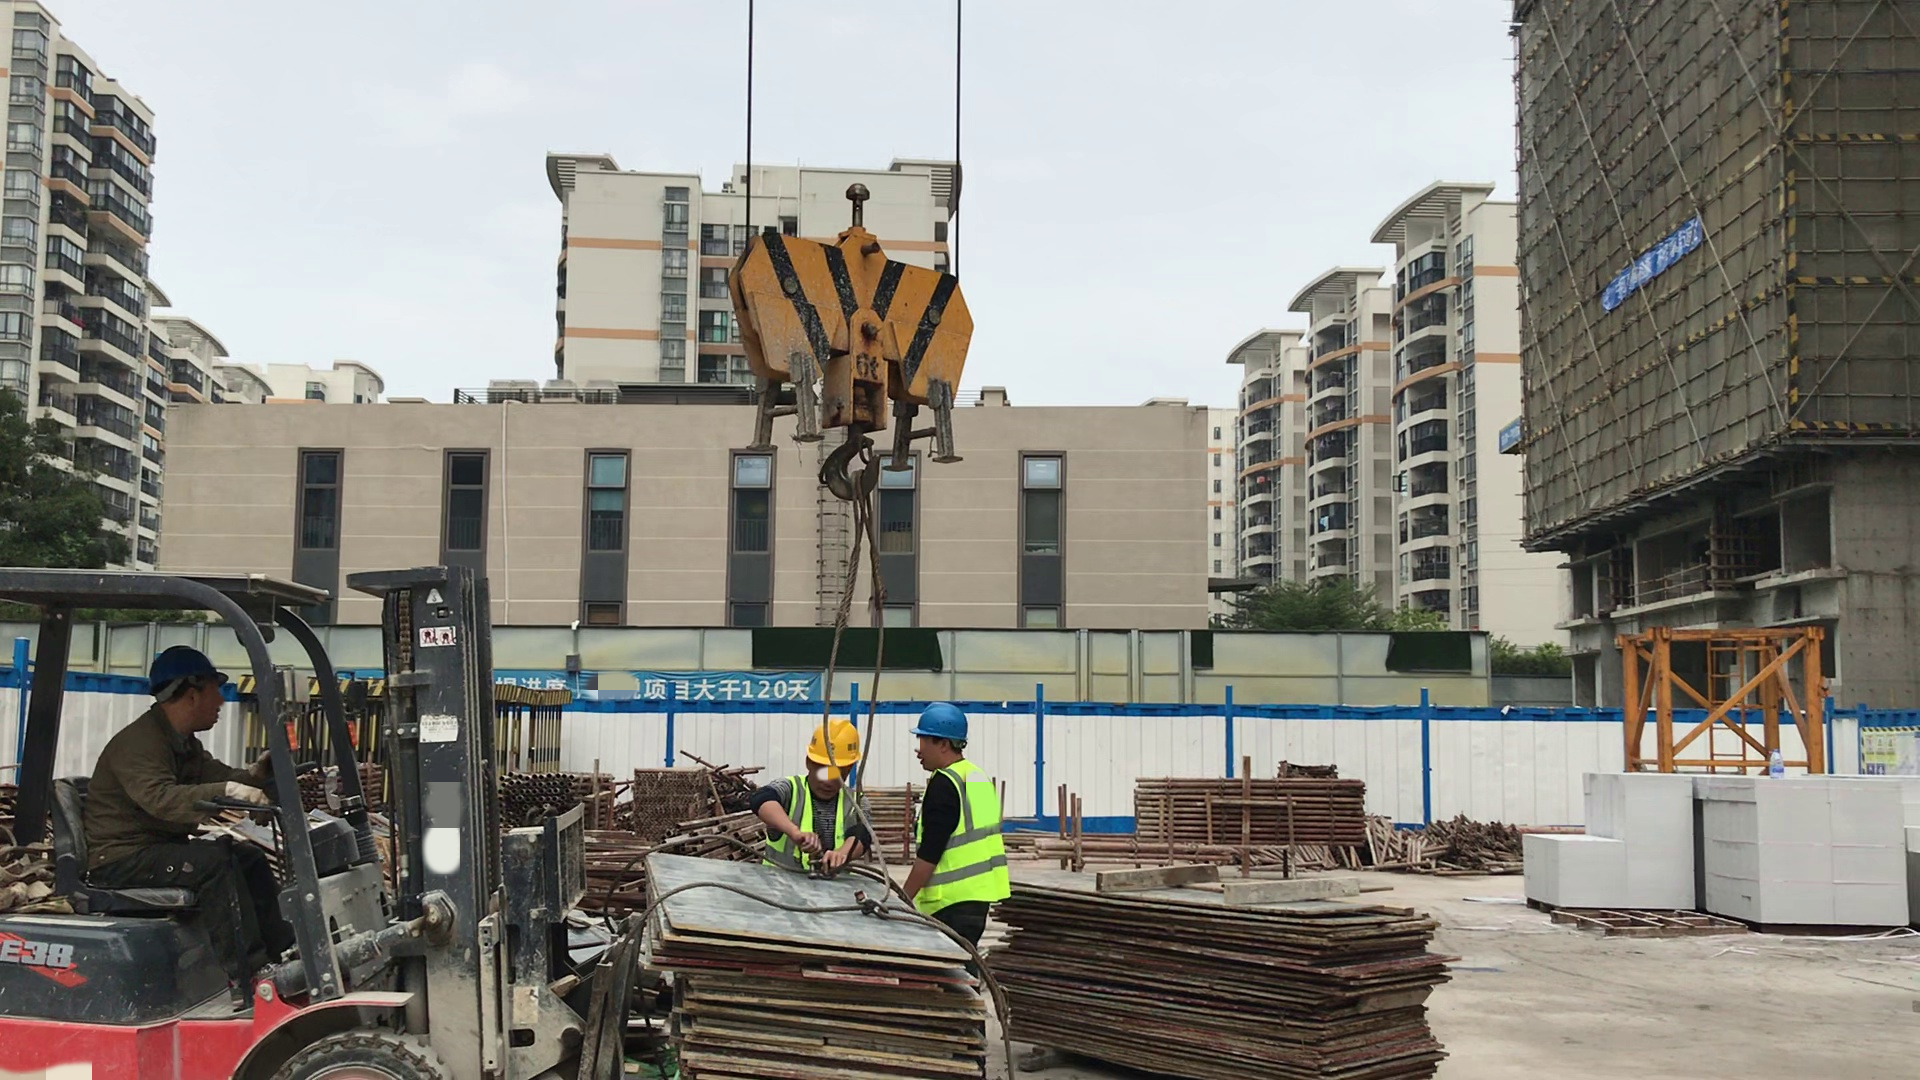board: (1009, 874, 1446, 1074), (629, 865, 986, 1076)
brick: (1702, 764, 1905, 931), (1524, 752, 1706, 915)
helmet: (144, 644, 236, 682), (907, 700, 976, 743), (801, 725, 863, 763)
hook: (719, 205, 996, 505)
person: (64, 632, 297, 995), (897, 701, 1021, 965), (751, 711, 881, 883)
scaffold: (1129, 772, 1368, 846), (498, 769, 620, 827)
slogan: (508, 666, 823, 712), (1604, 219, 1704, 307)
vest: (914, 768, 1012, 909), (777, 772, 856, 871)
